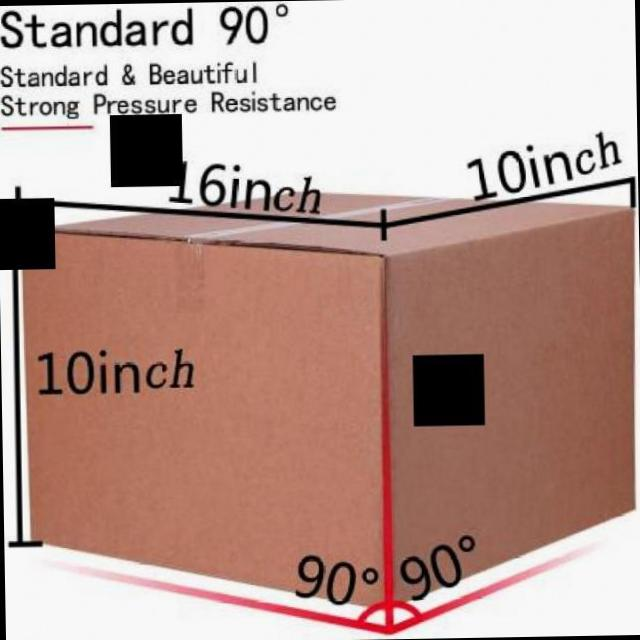box: (6, 176, 640, 621)
